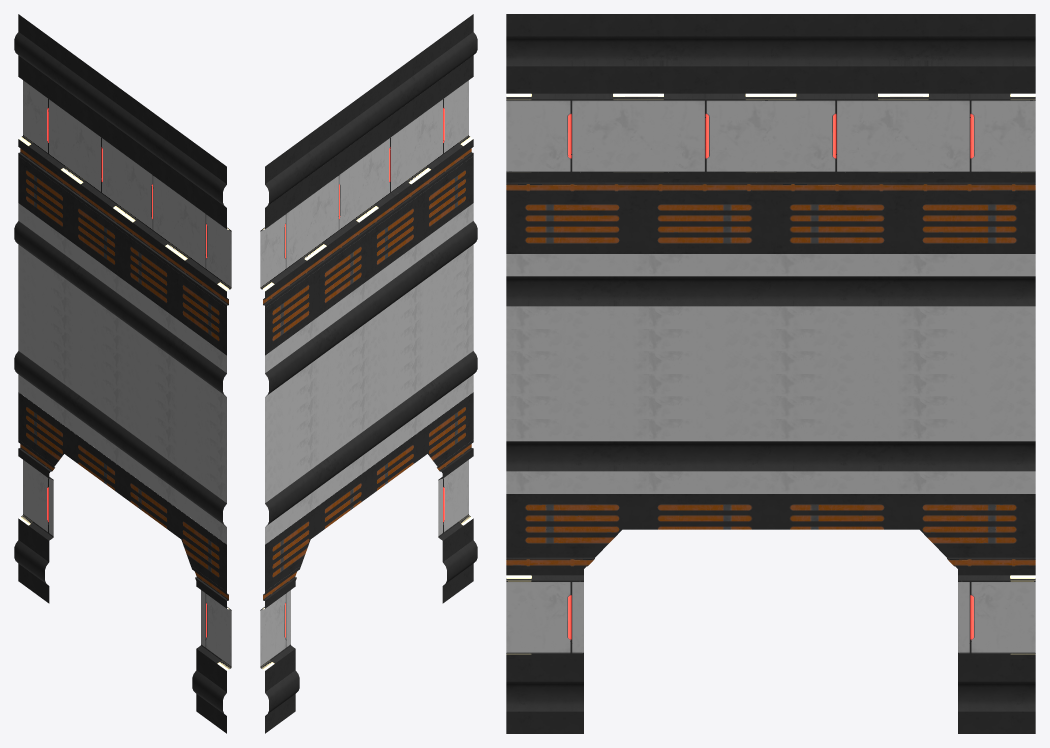
The model's file is DoorHoleLarge.fbx.
The picture shows the model from 3 angles, left to right: view 1: azimuth 30°, elevation 25°; view 2: azimuth 150°, elevation 25°; view 3: azimuth 270°, elevation 25°; orthographic projection. The views are drawn at different scales.
Parts seen in each view (by area): view 1: MWall.004; view 2: MWall.004; view 3: MWall.004.
Part boxes in pixels (x1=…): MWall.004: x1=14, y1=14, x2=231, y2=733; MWall.004: x1=260, y1=14, x2=477, y2=733; MWall.004: x1=506, y1=14, x2=1035, y2=733.
Size of the model in its own units: 23.82 by 1500 by 1000.
